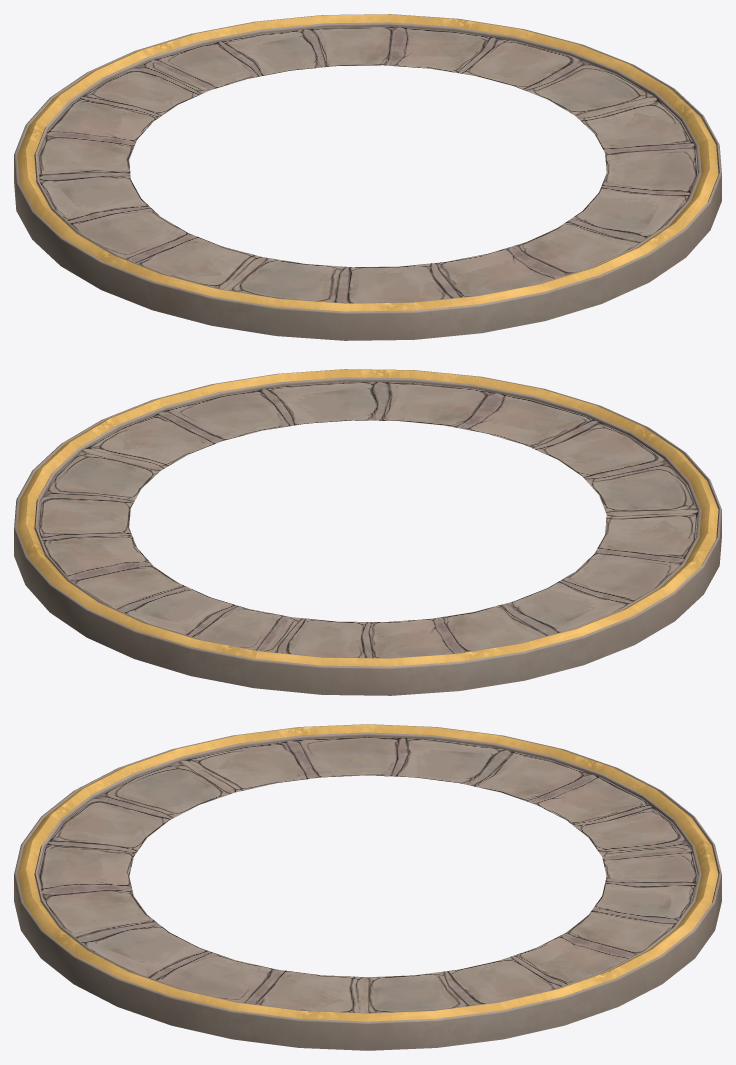
The model's file is CenterMidRim.fbx.
The picture shows the model from 3 angles, top to bottom: view 1: azimuth 30°, elevation 25°; view 2: azimuth 150°, elevation 25°; view 3: azimuth 270°, elevation 25°; orthographic projection.
Visible parts, largest first — view 1: CenterSlot; view 2: CenterSlot; view 3: CenterSlot.
Boxes of the visible parts, x1,y1,x2,y2 form: CenterSlot: (14, 14, 721, 340); CenterSlot: (14, 369, 721, 695); CenterSlot: (14, 724, 721, 1050).
Bounding box in the file's own units: 799 × 40.07 × 799.
